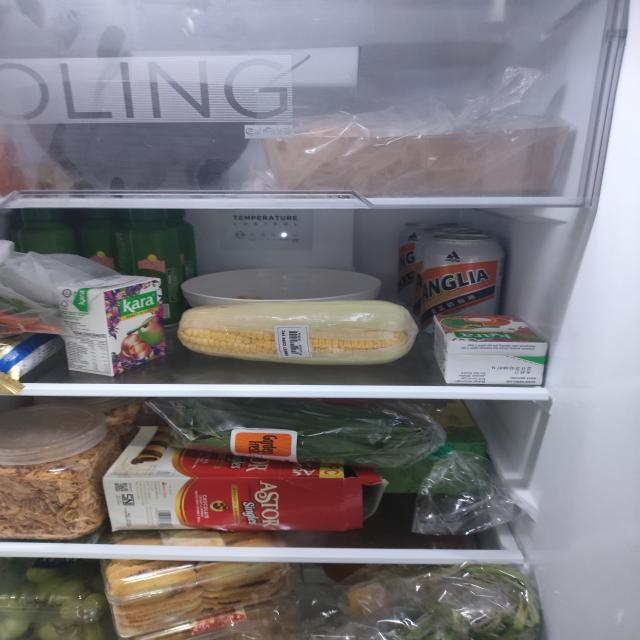chili: (0, 292, 63, 336)
coconut_milk: (56, 274, 168, 376), (431, 314, 549, 386)
corn: (177, 300, 419, 366)
grape: (0, 561, 117, 640)
leafy_greens: (170, 397, 436, 469)
